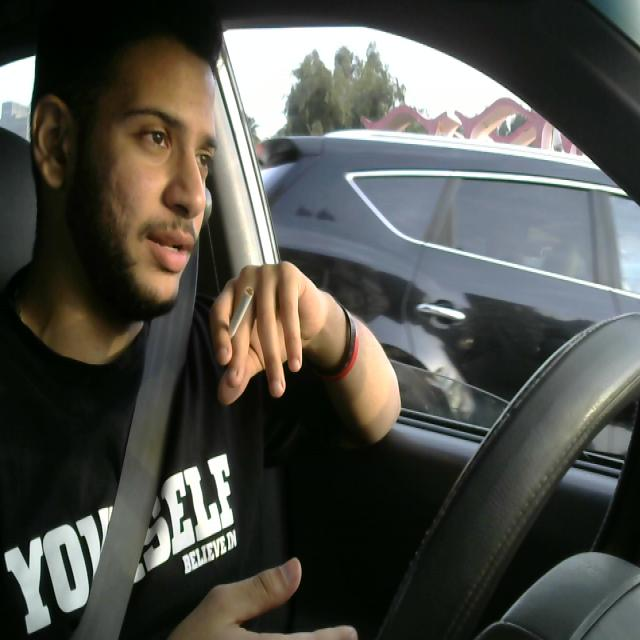smoking: (218, 279, 257, 374)
